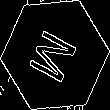M_SE: (25, 23, 85, 87)
